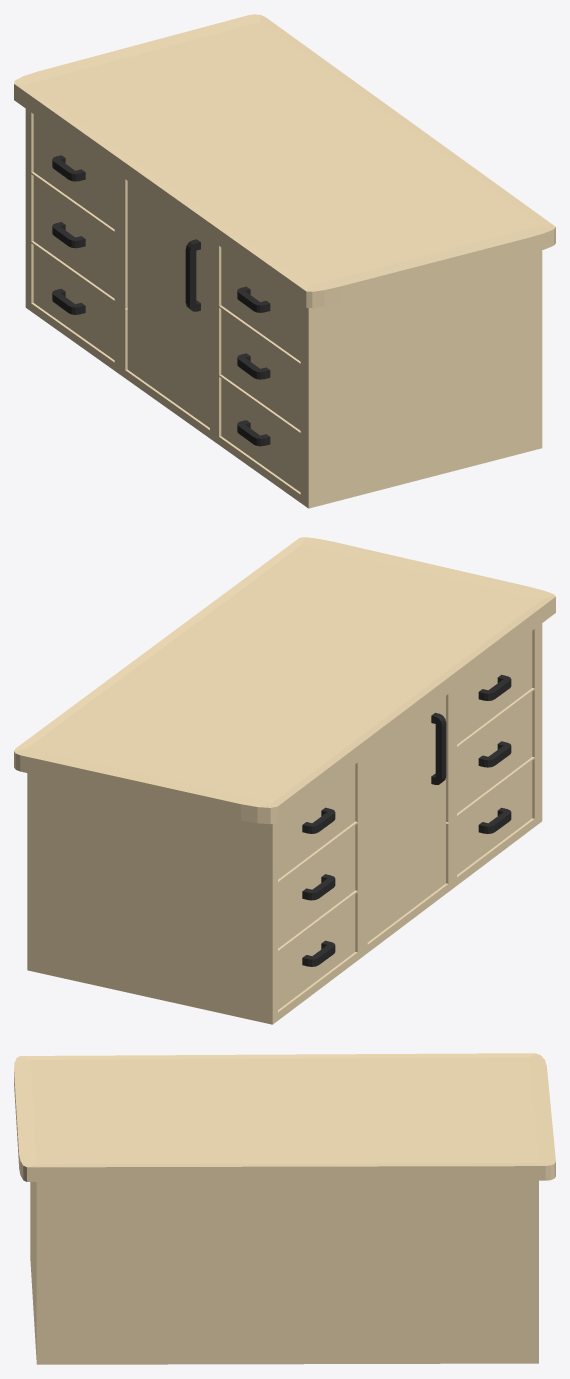
Rendered from cabinet2.fbx.
The picture shows the model from 3 angles, top to bottom: view 1: azimuth 30°, elevation 25°; view 2: azimuth 150°, elevation 25°; view 3: azimuth 270°, elevation 25°; orthographic projection. The views are drawn at different scales.
Visible parts, largest first — view 1: Plane.004; view 2: Plane.004; view 3: Plane.004.
Part boxes in pixels (bbox=[...]): Plane.004: bbox=[14, 14, 555, 508]; Plane.004: bbox=[14, 537, 555, 1024]; Plane.004: bbox=[14, 1053, 555, 1364].
Bounding box in the file's own units: 101 × 83 × 203.
